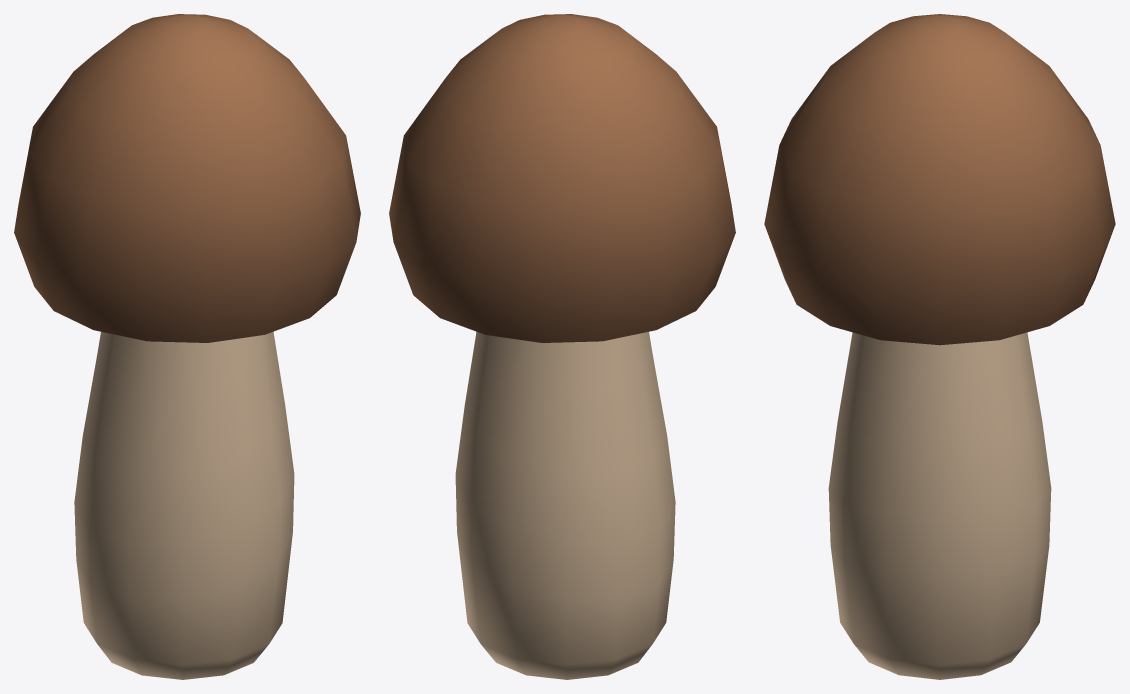
File: Mushroom_03.fbx
The picture shows the model from 3 angles, left to right: view 1: azimuth 30°, elevation 25°; view 2: azimuth 150°, elevation 25°; view 3: azimuth 270°, elevation 25°; orthographic projection.
Parts seen in each view (by area): view 1: Mushroom_03_LOD0; view 2: Mushroom_03_LOD0; view 3: Mushroom_03_LOD0.
Part boxes in pixels (x1=…): Mushroom_03_LOD0: x1=14, y1=14, x2=360, y2=679; Mushroom_03_LOD0: x1=389, y1=14, x2=735, y2=679; Mushroom_03_LOD0: x1=764, y1=14, x2=1115, y2=679.
Size of what is drawn, in the model's own units: 0.0798 by 0.1576 by 0.0798.
